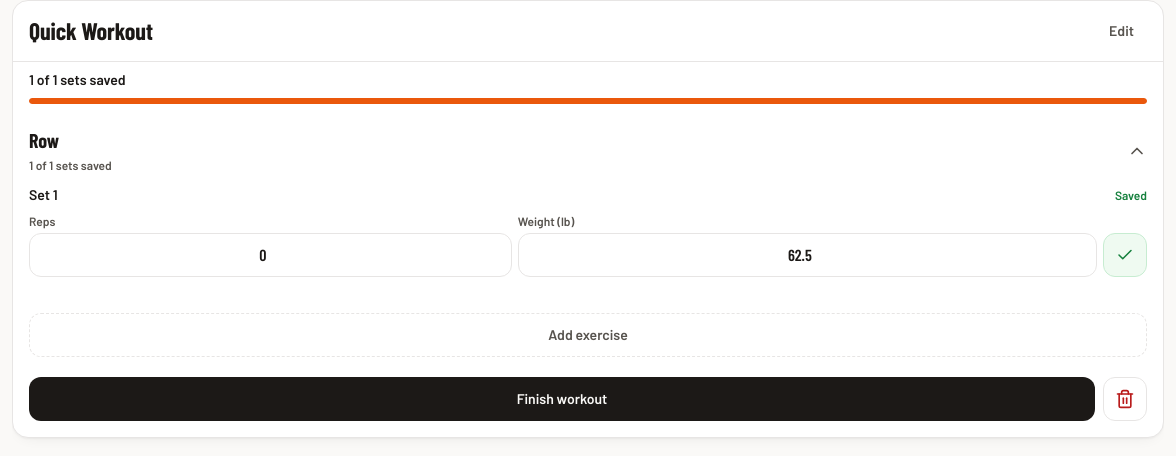
Test: keeps the exercise heading canonical while the disclosure action changes
Click the button with aria-label "Collapse Row".
click(83, 165)  # box [13,116,1163,185]
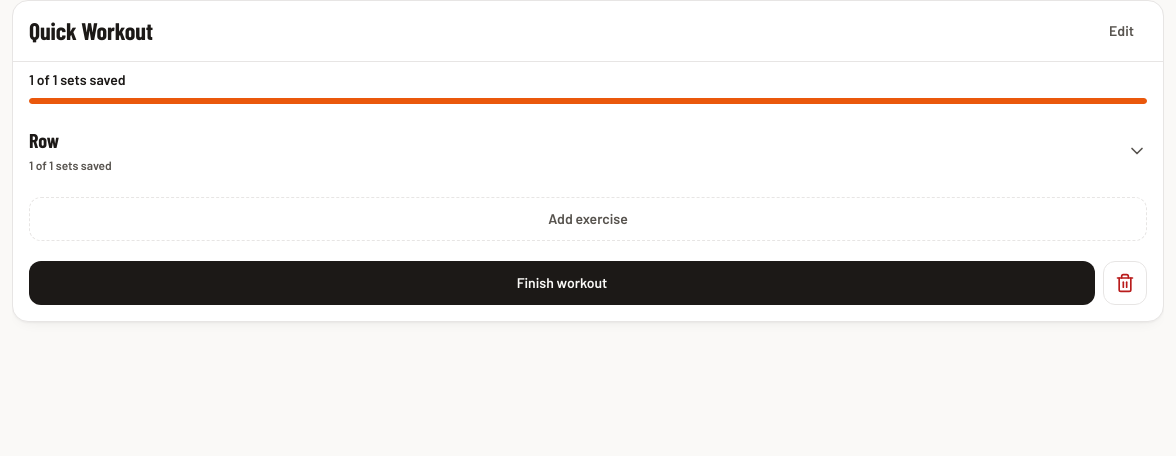
Expected: the button with aria-label "Expand Row" is collapsed, [13,116,1163,185]
